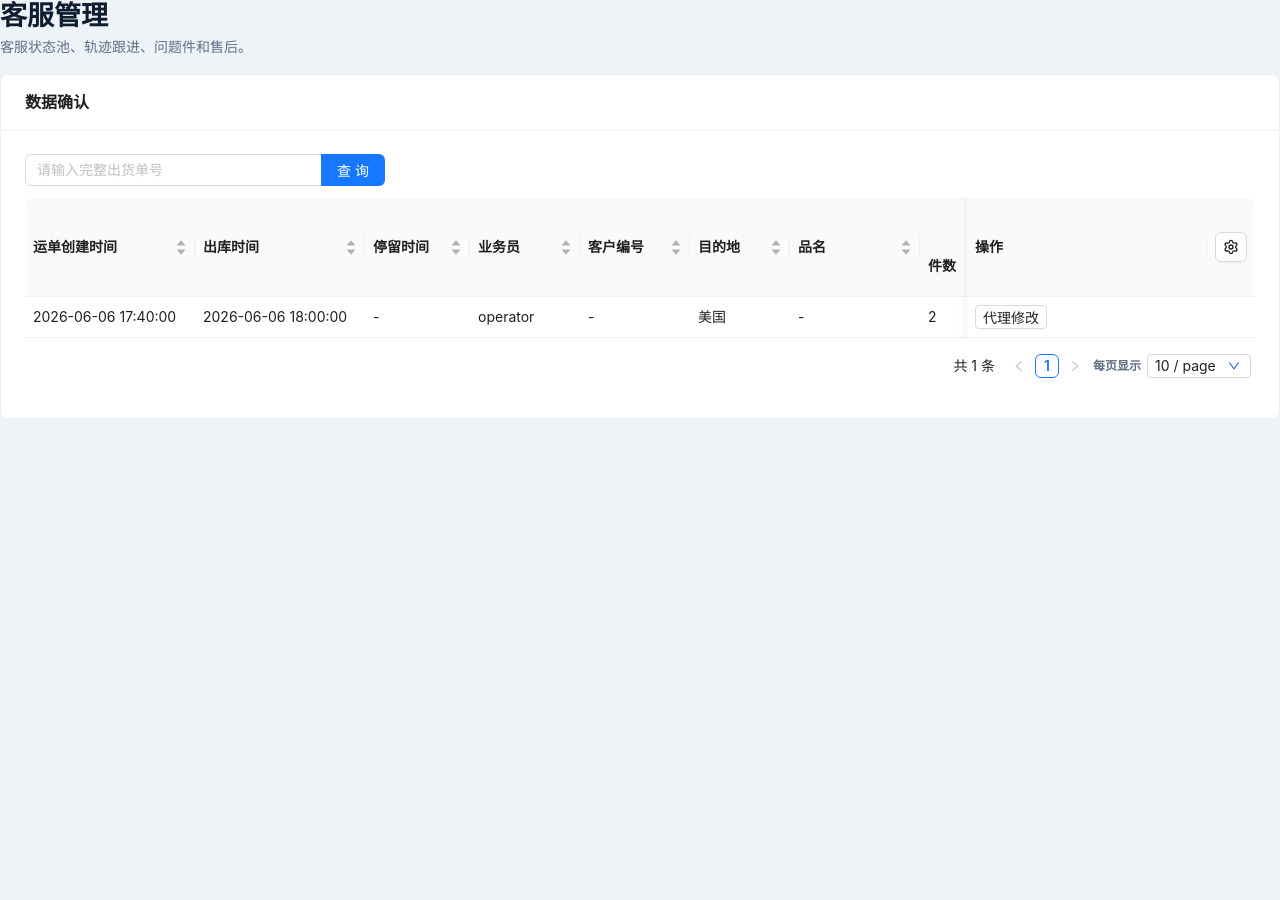
Test: Customer service waiting departure module › 客服账号可独立修改代理应付成本计费数量并提交新值
The width and height of the screenshot is (1280, 900).
Click the button "代理修改" at (1011, 317), box [975,305,1047,329]
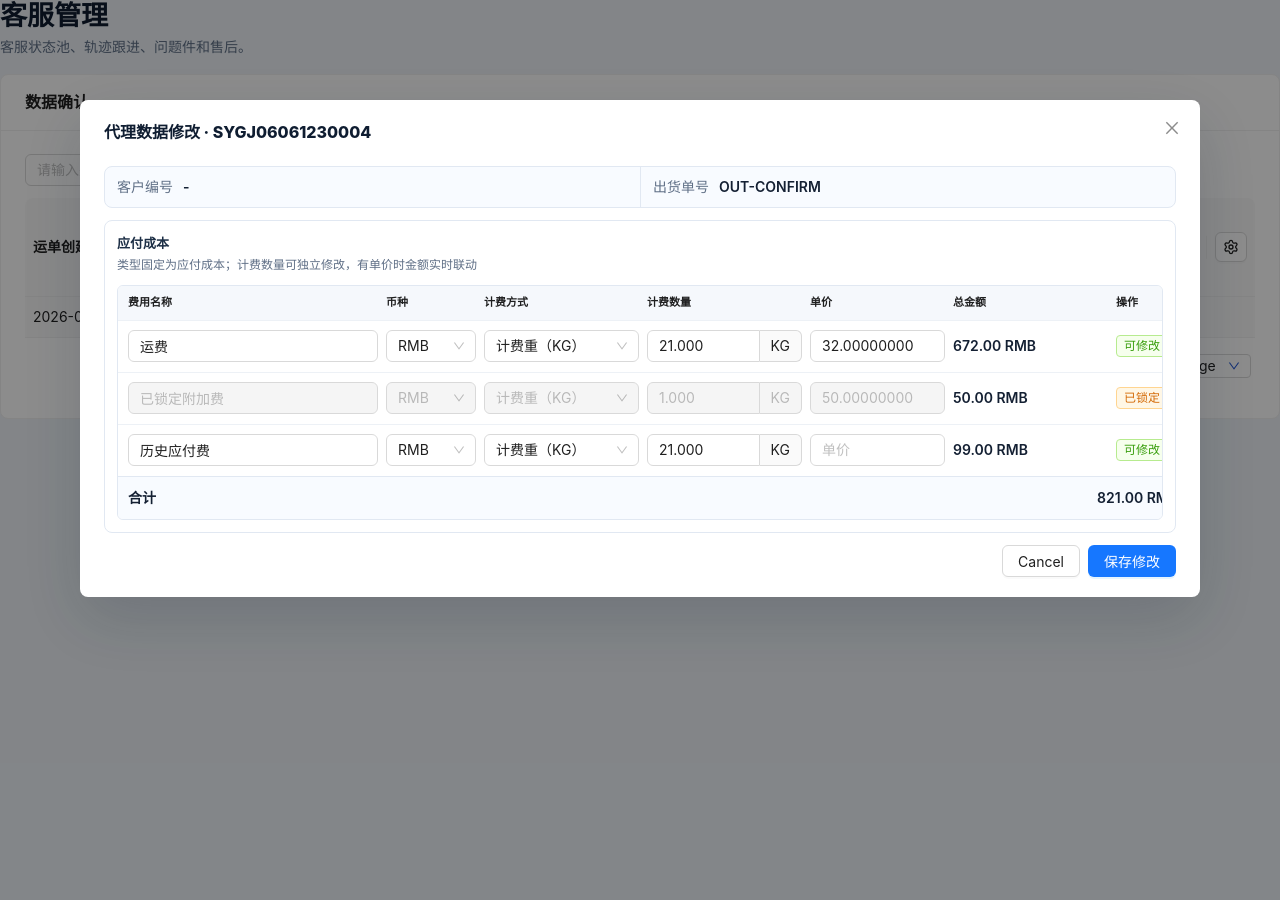
Expected: the number field named "应付成本计费数量-pf-confirm" is enabled
Expected: the number field named "应付成本计费数量-pf-locked" is disabled, [648,383,759,413]
Expected: the text "99.00 RMB" is shown, [953,441,1028,458]
Replace the text in the number field named "应付成本计费数量-pf-confirm" with "25" at (703, 346), box [648,331,759,361]
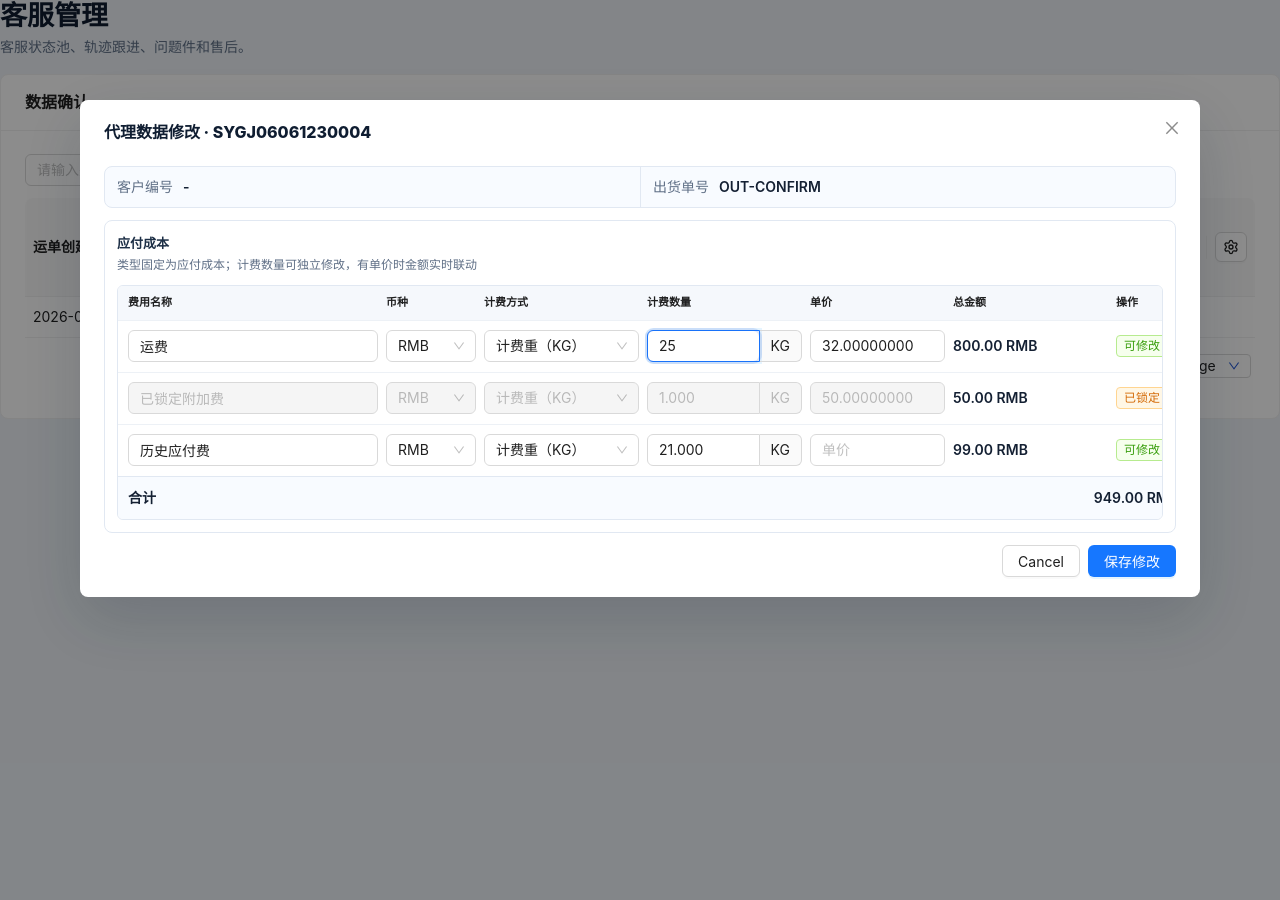
Click the button "保存修改" at (1132, 560), box [1088,544,1176,576]
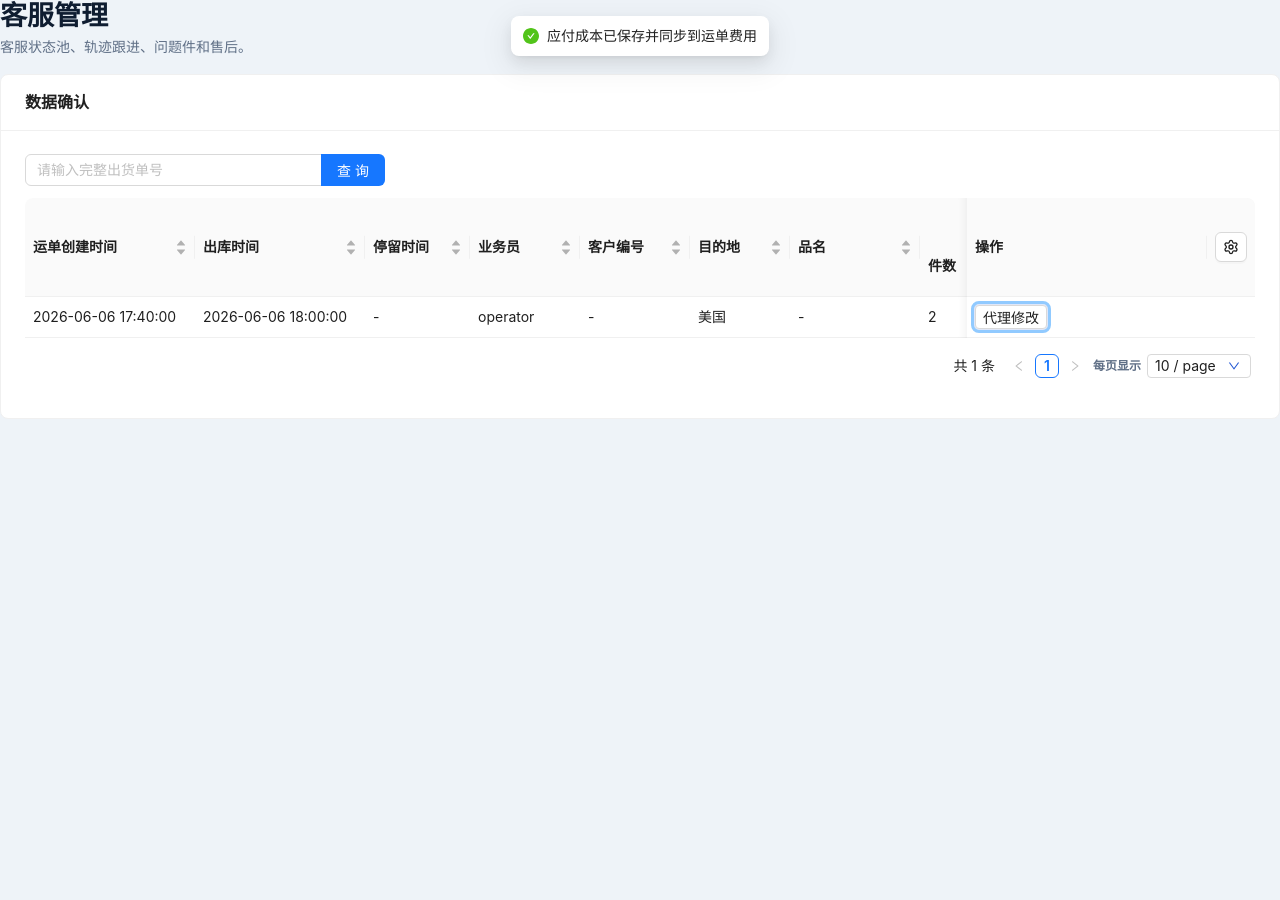
Expected: the text "代理数据修改" is gone
